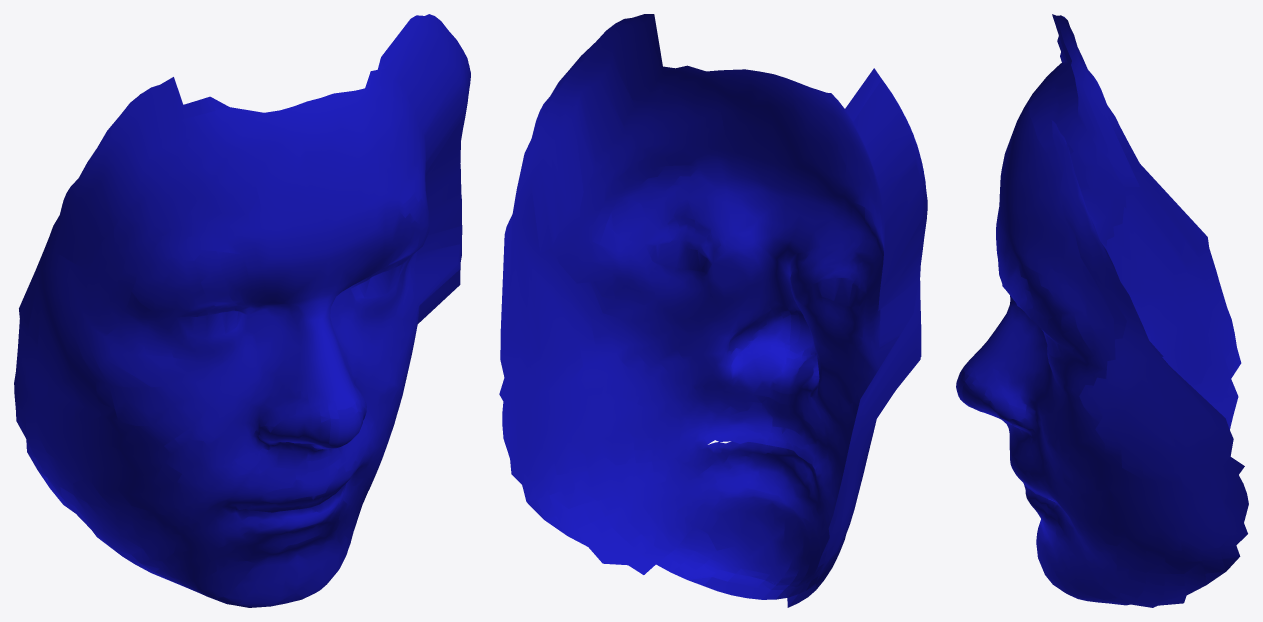
File: deformed_meshstep020.obj
The picture shows the model from 3 angles, left to right: view 1: azimuth 30°, elevation 25°; view 2: azimuth 150°, elevation 25°; view 3: azimuth 270°, elevation 25°; orthographic projection. The views are drawn at different scales.
Bounding box in the file's own units: 166 × 213 × 108.
